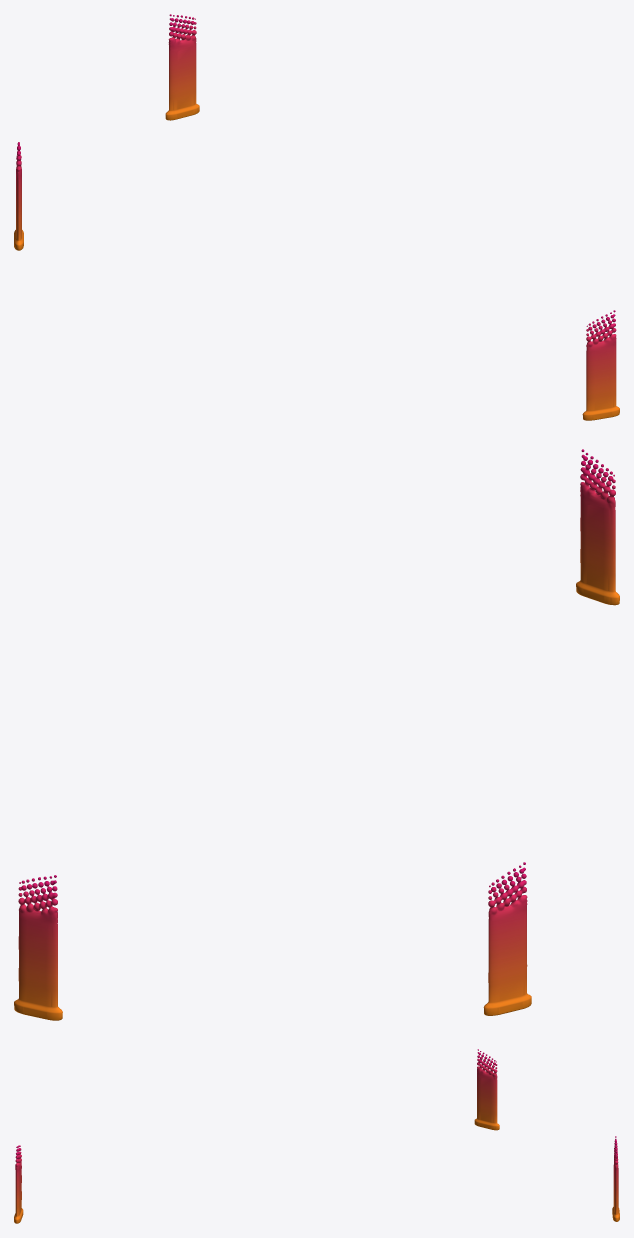
Rendered from mesh_signage_stand_all.glb.
The picture shows the model from 3 angles, top to bottom: view 1: azimuth 30°, elevation 25°; view 2: azimuth 150°, elevation 25°; view 3: azimuth 270°, elevation 25°; orthographic projection. The views are drawn at different scales.
Parts seen in each view (by area): view 1: mesh_signage_stand_2, mesh_signage_stand_3, mesh_signage_stand_1; view 2: mesh_signage_stand_3, mesh_signage_stand_1, mesh_signage_stand_2; view 3: mesh_signage_stand_1, mesh_signage_stand_2, mesh_signage_stand_3.
Part boxes in pixels (bbox=[...]): mesh_signage_stand_2: bbox=[582, 310, 619, 420]; mesh_signage_stand_3: bbox=[165, 14, 199, 120]; mesh_signage_stand_1: bbox=[14, 142, 23, 250]; mesh_signage_stand_3: bbox=[14, 875, 62, 1020]; mesh_signage_stand_1: bbox=[483, 862, 531, 1015]; mesh_signage_stand_2: bbox=[576, 449, 619, 605]; mesh_signage_stand_1: bbox=[474, 1049, 499, 1130]; mesh_signage_stand_2: bbox=[14, 1145, 23, 1223]; mesh_signage_stand_3: bbox=[612, 1136, 619, 1221].
Size of the model in its own units: 6.85 by 2.4 by 17.45.
1 material, 1 textured.
